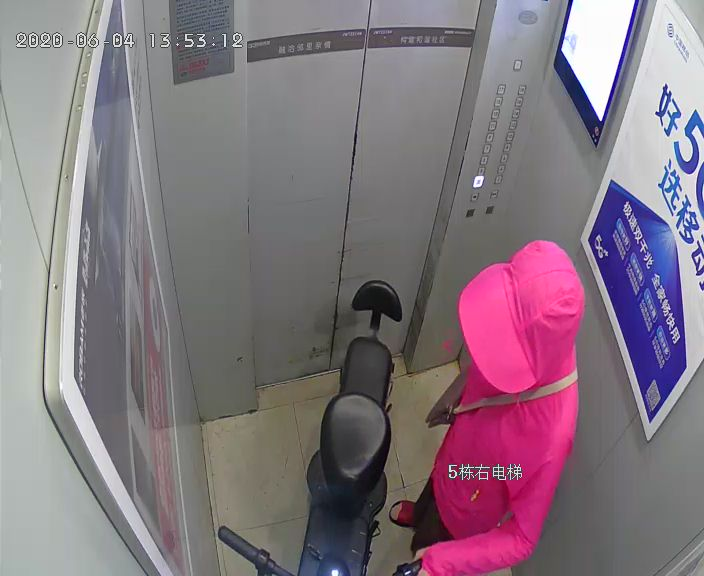Electric-bicycle: (220, 277, 420, 576)
